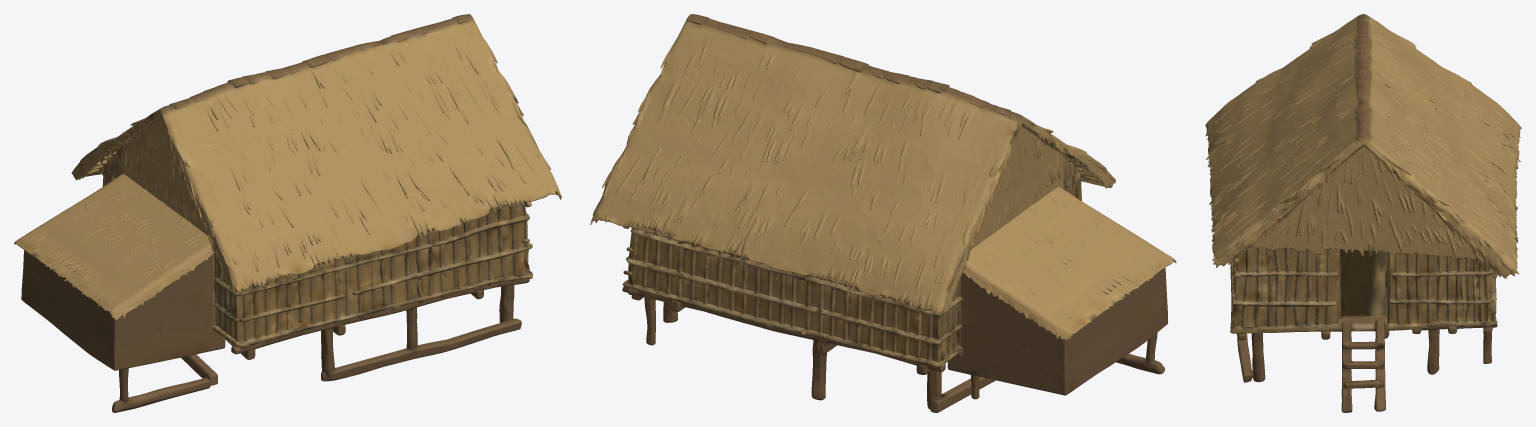
Rendered from champa12.glb.
3 renders of one model, left to right at view 1: azimuth 30°, elevation 25°; view 2: azimuth 150°, elevation 25°; view 3: azimuth 270°, elevation 25°, orthographic. The views are drawn at different scales.
Parts seen in each view (by area): view 1: tripo_node_fa68c3eb-5a87-4b5d-929a-4cfd4e777e08; view 2: tripo_node_fa68c3eb-5a87-4b5d-929a-4cfd4e777e08; view 3: tripo_node_fa68c3eb-5a87-4b5d-929a-4cfd4e777e08.
Boxes of the visible parts, <box> form: tripo_node_fa68c3eb-5a87-4b5d-929a-4cfd4e777e08: <box>14,14,561,412</box>; tripo_node_fa68c3eb-5a87-4b5d-929a-4cfd4e777e08: <box>590,14,1176,412</box>; tripo_node_fa68c3eb-5a87-4b5d-929a-4cfd4e777e08: <box>1205,14,1521,412</box>.
Size of the model in its own units: 1 by 0.5677 by 0.6376.
1 material, 1 textured.
